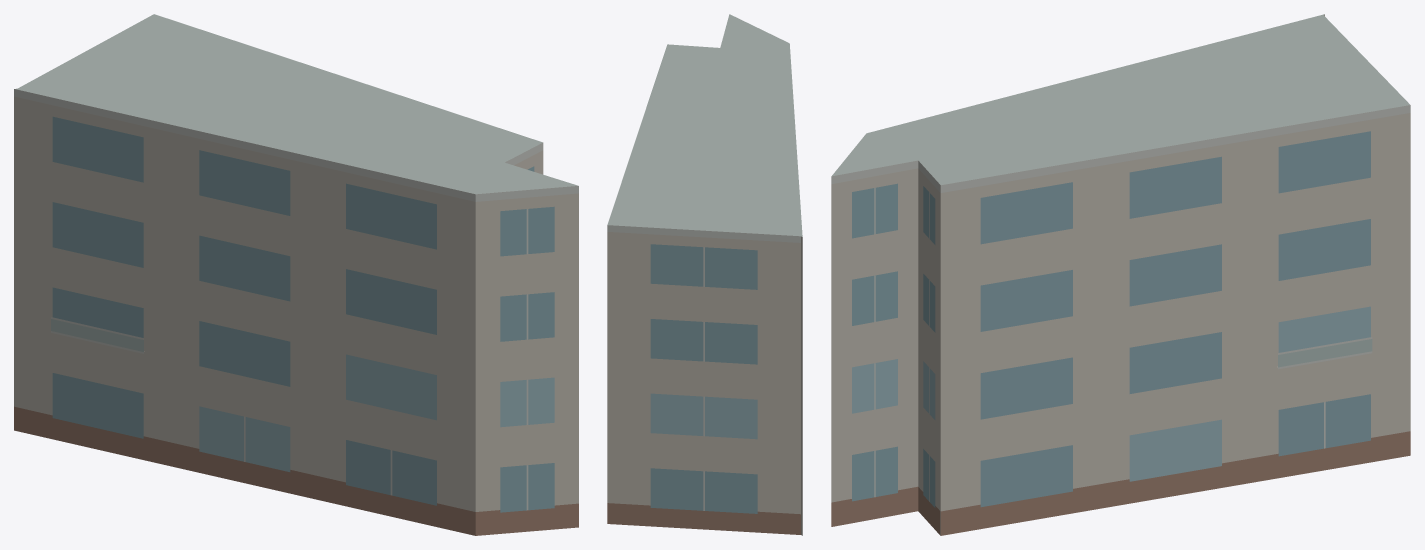
The model's file is survey-upis-32594128.glb.
3 renders of one model, left to right at view 1: azimuth 30°, elevation 25°; view 2: azimuth 150°, elevation 25°; view 3: azimuth 270°, elevation 25°, orthographic. The views are drawn at different scales.
Parts seen in each view (by area): view 1: survey-upis-32594128.tmp; view 2: survey-upis-32594128.tmp; view 3: survey-upis-32594128.tmp.
Part boxes in pixels (x1=…): survey-upis-32594128.tmp: x1=14, y1=14, x2=578, y2=535; survey-upis-32594128.tmp: x1=607, y1=14, x2=802, y2=535; survey-upis-32594128.tmp: x1=831, y1=14, x2=1410, y2=535.
Size of the model in its own units: 11.43 by 10.9 by 16.33.
